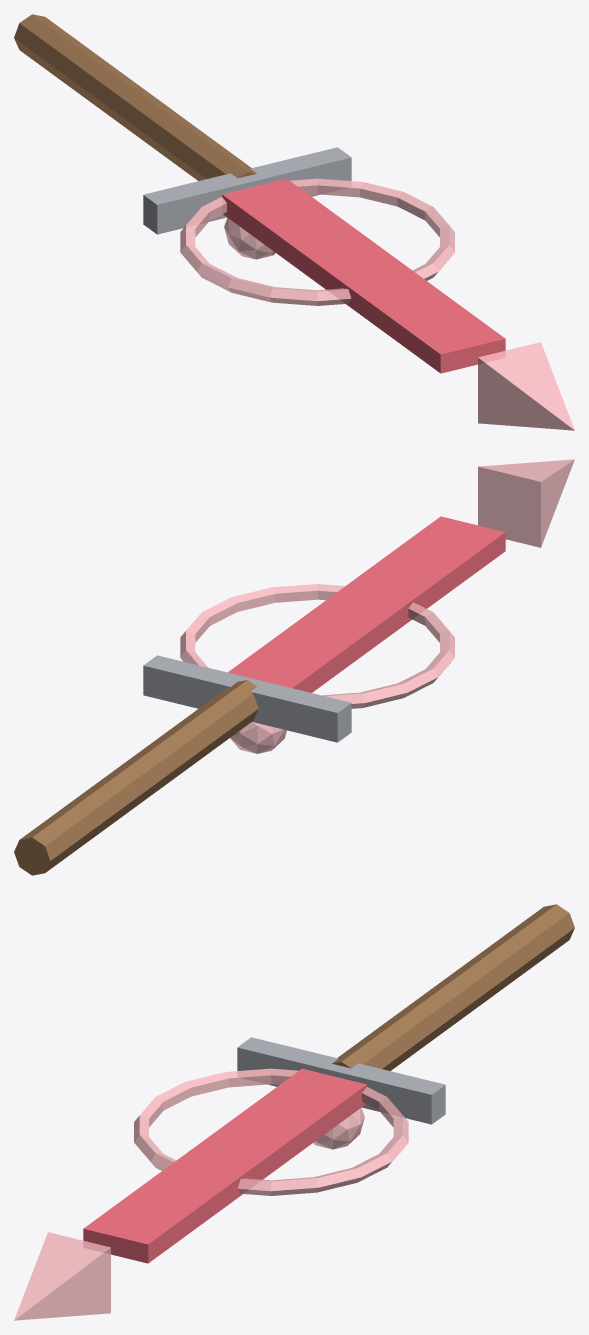
File: 03_magic_weapon_upgrade.glb
The picture shows the model from 3 angles, top to bottom: view 1: azimuth 30°, elevation 25°; view 2: azimuth 150°, elevation 25°; view 3: azimuth 330°, elevation 25°; orthographic projection.
Visible parts, largest first — view 1: enchanted_blade_or_focus, weapon_handle, rune_orbit, weapon_guard, weapon_tip, gem_socket; view 2: enchanted_blade_or_focus, weapon_handle, weapon_guard, weapon_tip, rune_orbit, gem_socket; view 3: enchanted_blade_or_focus, weapon_handle, rune_orbit, weapon_guard, weapon_tip, gem_socket.
Boxes of the visible parts, x1,y1,x2,y2 form: enchanted_blade_or_focus: (222,178,505,373); weapon_handle: (14,14,256,180); rune_orbit: (180,178,454,305); weapon_guard: (143,147,351,234); weapon_tip: (478,342,574,430); gem_socket: (224,217,275,259); enchanted_blade_or_focus: (228,516,505,692); weapon_handle: (14,680,258,875); weapon_guard: (143,655,351,742); weapon_tip: (478,459,574,547); rune_orbit: (180,584,454,708); gem_socket: (230,722,286,753); enchanted_blade_or_focus: (83,1068,366,1263); weapon_handle: (332,904,574,1070); rune_orbit: (134,1068,408,1195); weapon_guard: (237,1037,445,1124); weapon_tip: (14,1232,110,1320); gem_socket: (313,1107,364,1149).
Bounding box in the file's own units: 0.596 × 0.2178 × 2.32.
